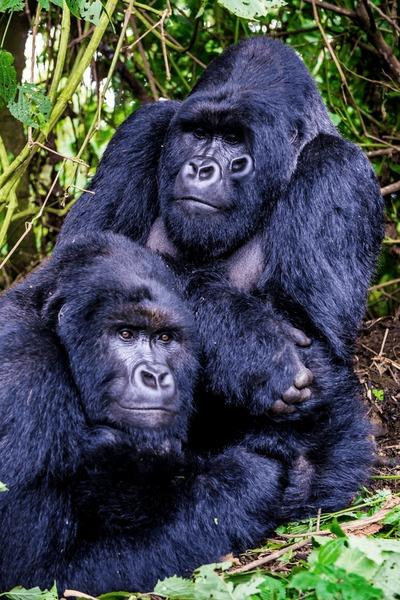goriile_montagne: (0, 224, 297, 574), (60, 0, 388, 289)
